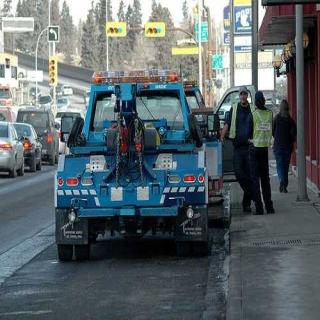Towing_truck: (52, 64, 232, 261)
